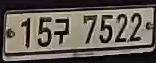1: (19, 16, 36, 49)
2: (114, 12, 129, 44), (129, 12, 143, 43)
5: (36, 14, 53, 48), (98, 13, 114, 45)
7: (81, 13, 98, 45)
구: (53, 17, 71, 47)
